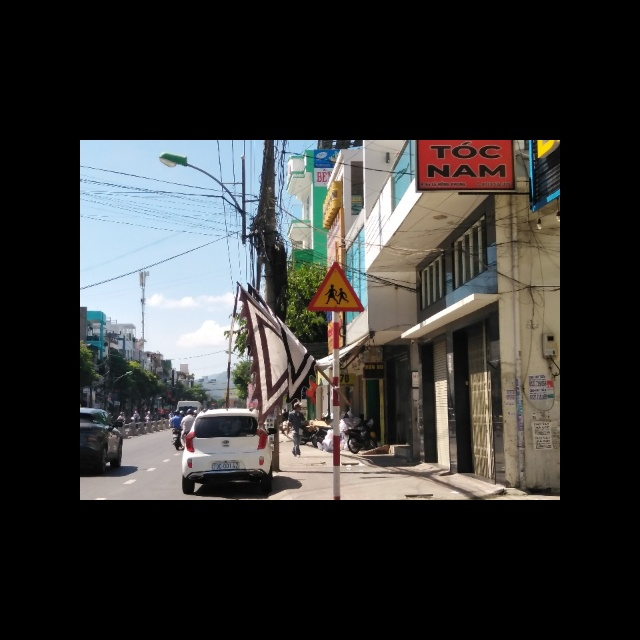Trẻ em ngang qua: (305, 259, 368, 314)
